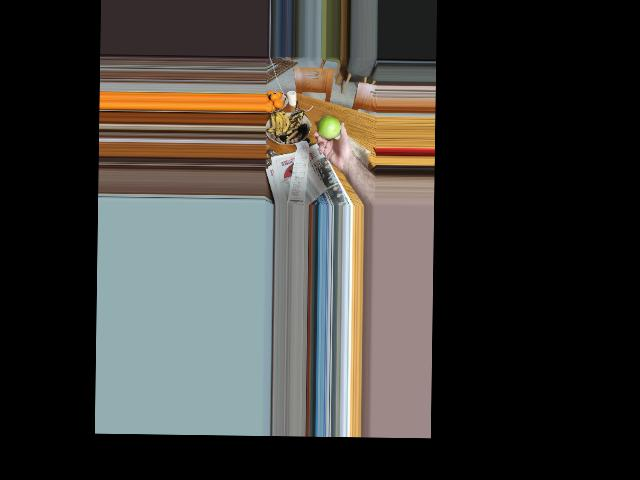apple: (315, 114, 341, 141)
